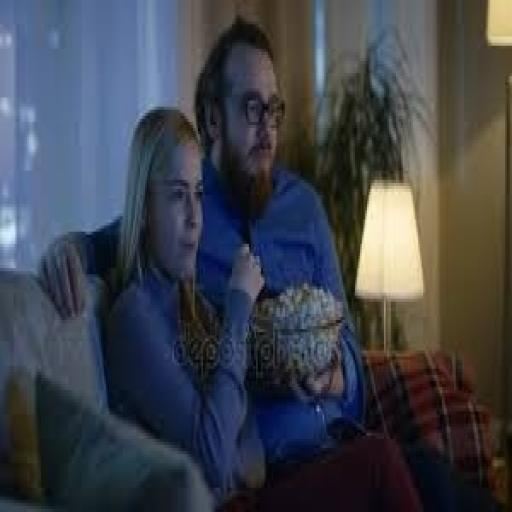sitting: (29, 15, 425, 509)
